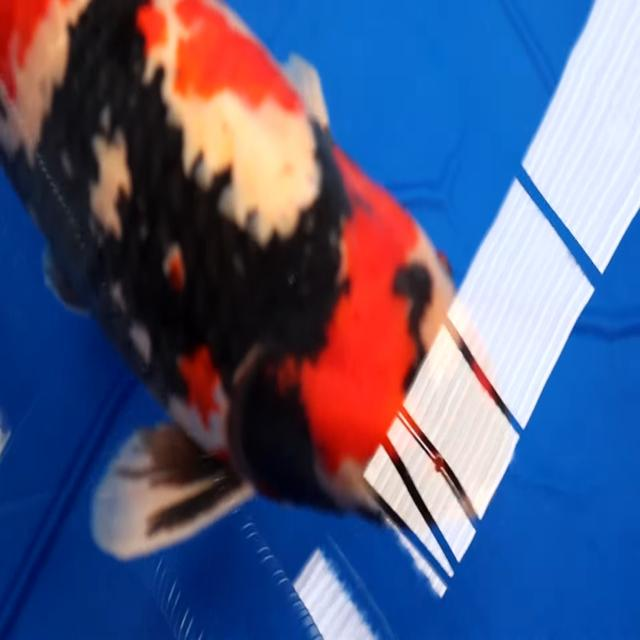Showa: (0, 0, 505, 565)
